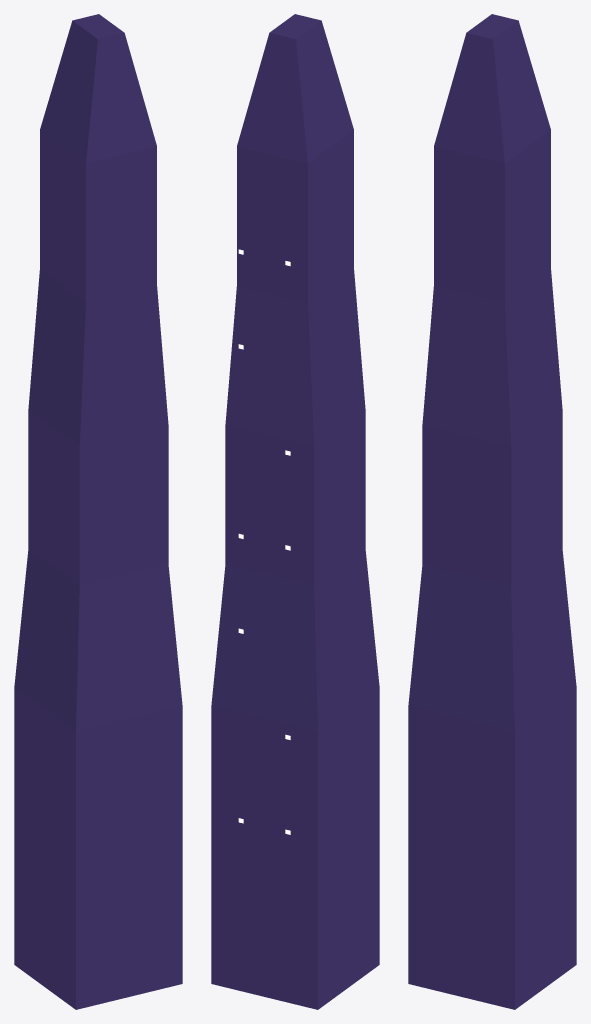
File: 06_skyline_spire_102m.glb
3 views of the same model, side by side, from view 1: azimuth 30°, elevation 25°; view 2: azimuth 150°, elevation 25°; view 3: azimuth 330°, elevation 25° (orthographic).
Visible parts, largest first — view 1: body; view 2: body; view 3: body.
Boxes of the visible parts, bbox=[...] form: body: bbox=[14, 14, 182, 1009]; body: bbox=[211, 14, 379, 1009]; body: bbox=[408, 14, 576, 1009].
Bounding box in the file's own units: 12 × 102 × 12.05.
